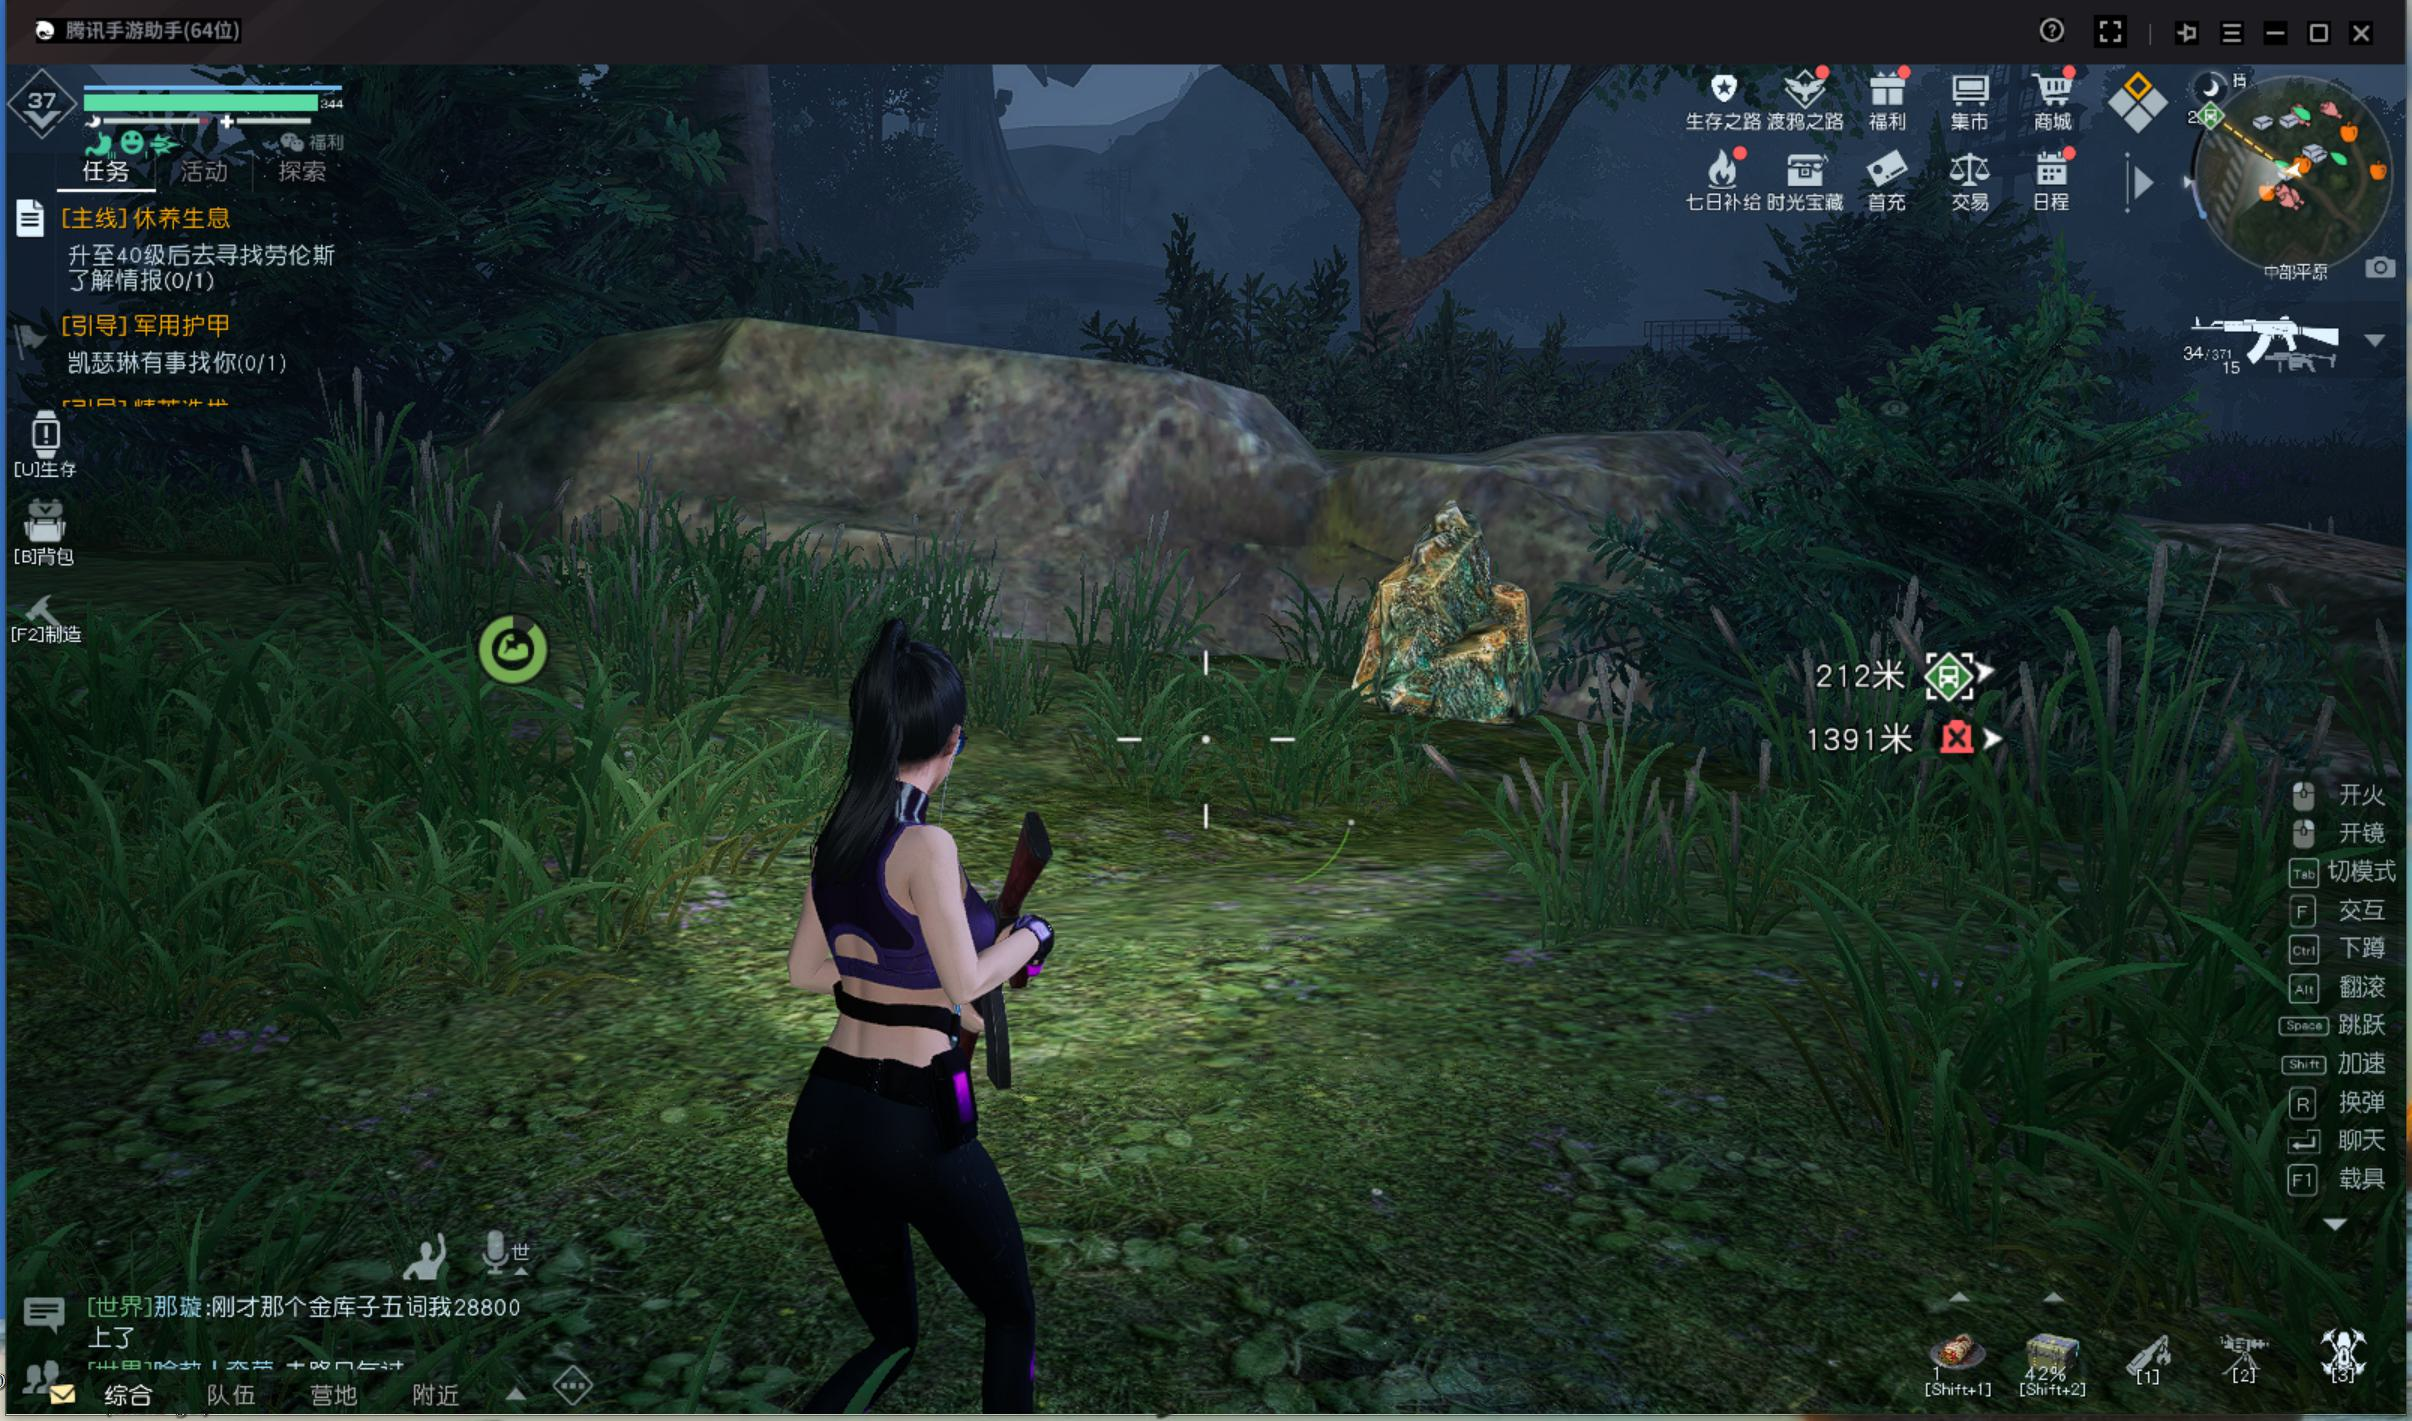stone: (1363, 465, 1560, 760)
tree: (1353, 178, 1433, 421)
